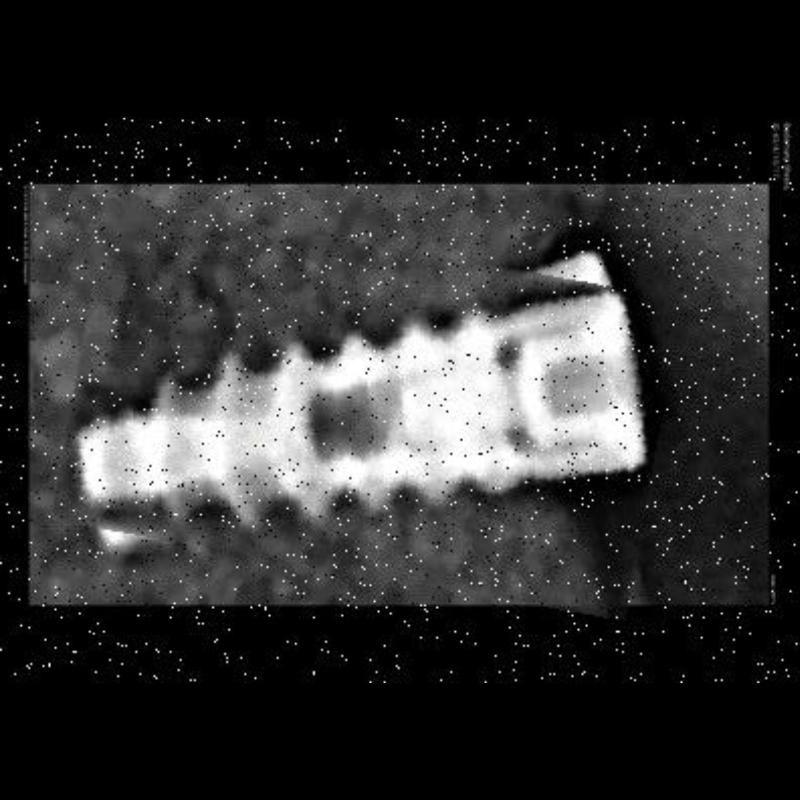NORIS: (64, 221, 670, 595)
